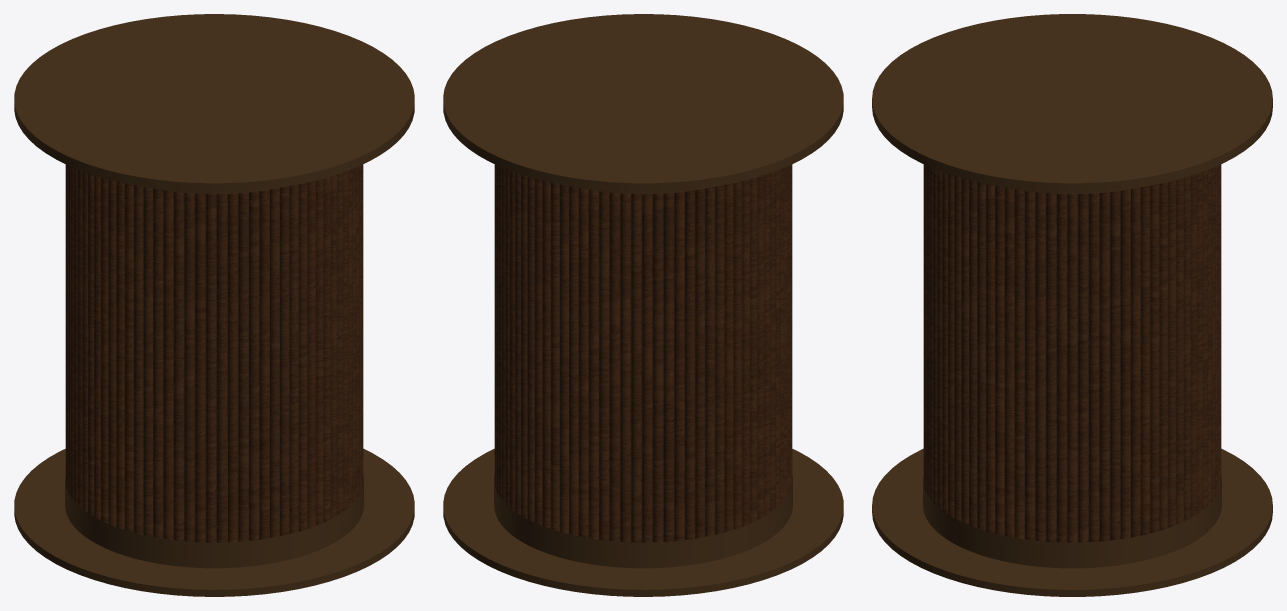
The model's file is CylindricWoodBaseX.glb.
The picture shows the model from 3 angles, left to right: view 1: azimuth 30°, elevation 25°; view 2: azimuth 150°, elevation 25°; view 3: azimuth 270°, elevation 25°; orthographic projection.
Visible parts, largest first — view 1: CylindricWoodBaseX; view 2: CylindricWoodBaseX; view 3: CylindricWoodBaseX.
Part boxes in pixels (left/top/right/bottom): CylindricWoodBaseX: left=14, top=14, right=414, bottom=596; CylindricWoodBaseX: left=443, top=14, right=843, bottom=596; CylindricWoodBaseX: left=872, top=14, right=1272, bottom=596.
Size of the model in its own units: 0.5994 by 0.6833 by 0.6.
2 materials, 1 textured.
